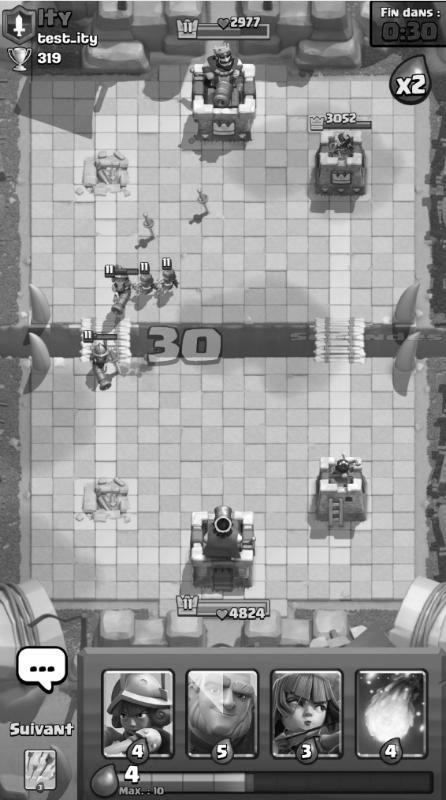archere: (152, 257, 180, 297), (132, 262, 158, 298)
mousquetaire: (83, 330, 117, 391), (104, 264, 138, 315)
